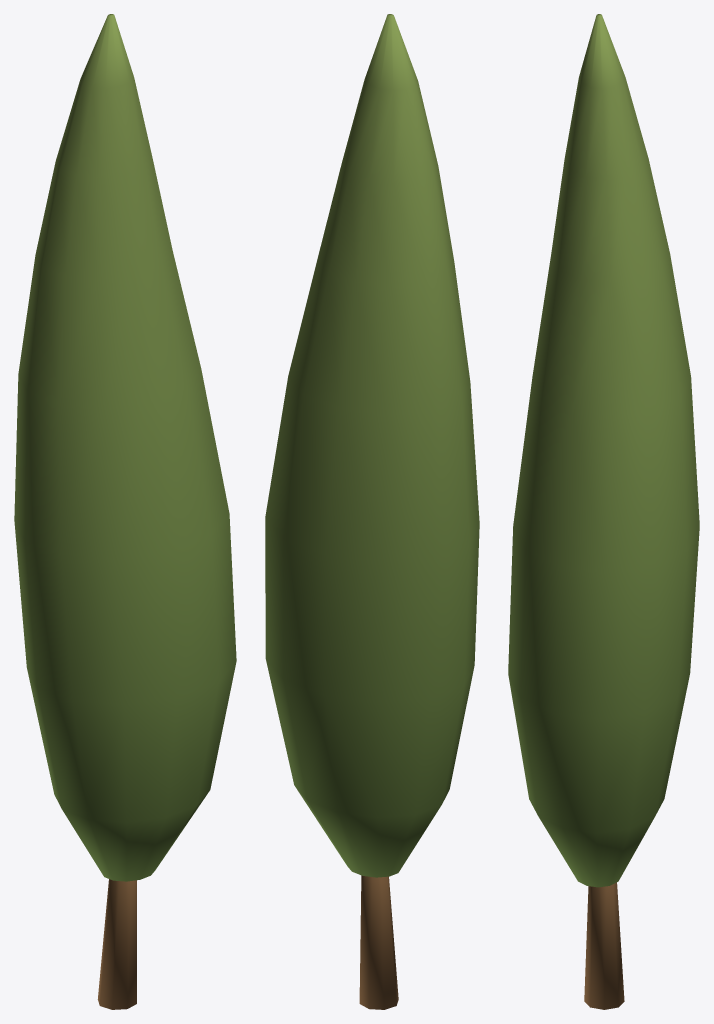
File: alc_tree_c.glb
The picture shows the model from 3 angles, left to right: view 1: azimuth 30°, elevation 25°; view 2: azimuth 150°, elevation 25°; view 3: azimuth 270°, elevation 25°; orthographic projection.
Parts seen in each view (by area): view 1: alc_tree_c; view 2: alc_tree_c; view 3: alc_tree_c.
Part boxes in pixels (x1,y1,x2,y2): alc_tree_c: (14, 14, 236, 1009); alc_tree_c: (265, 14, 479, 1009); alc_tree_c: (508, 14, 699, 1009).
Bounding box in the file's own units: 1.63 × 7.8 × 1.38.
